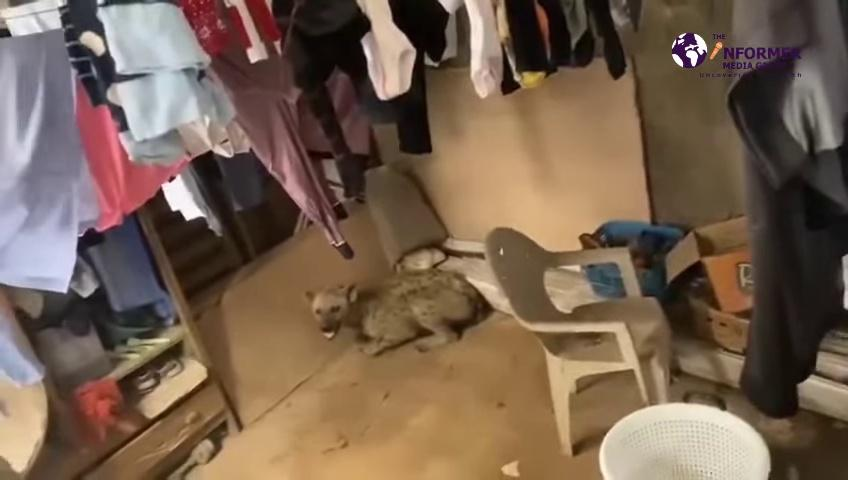hyenas: (286, 264, 490, 358)
